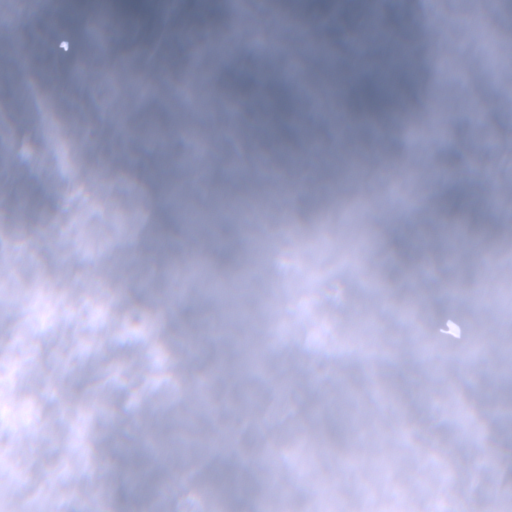Iceberg: (440, 320, 460, 337), (59, 41, 68, 50)
